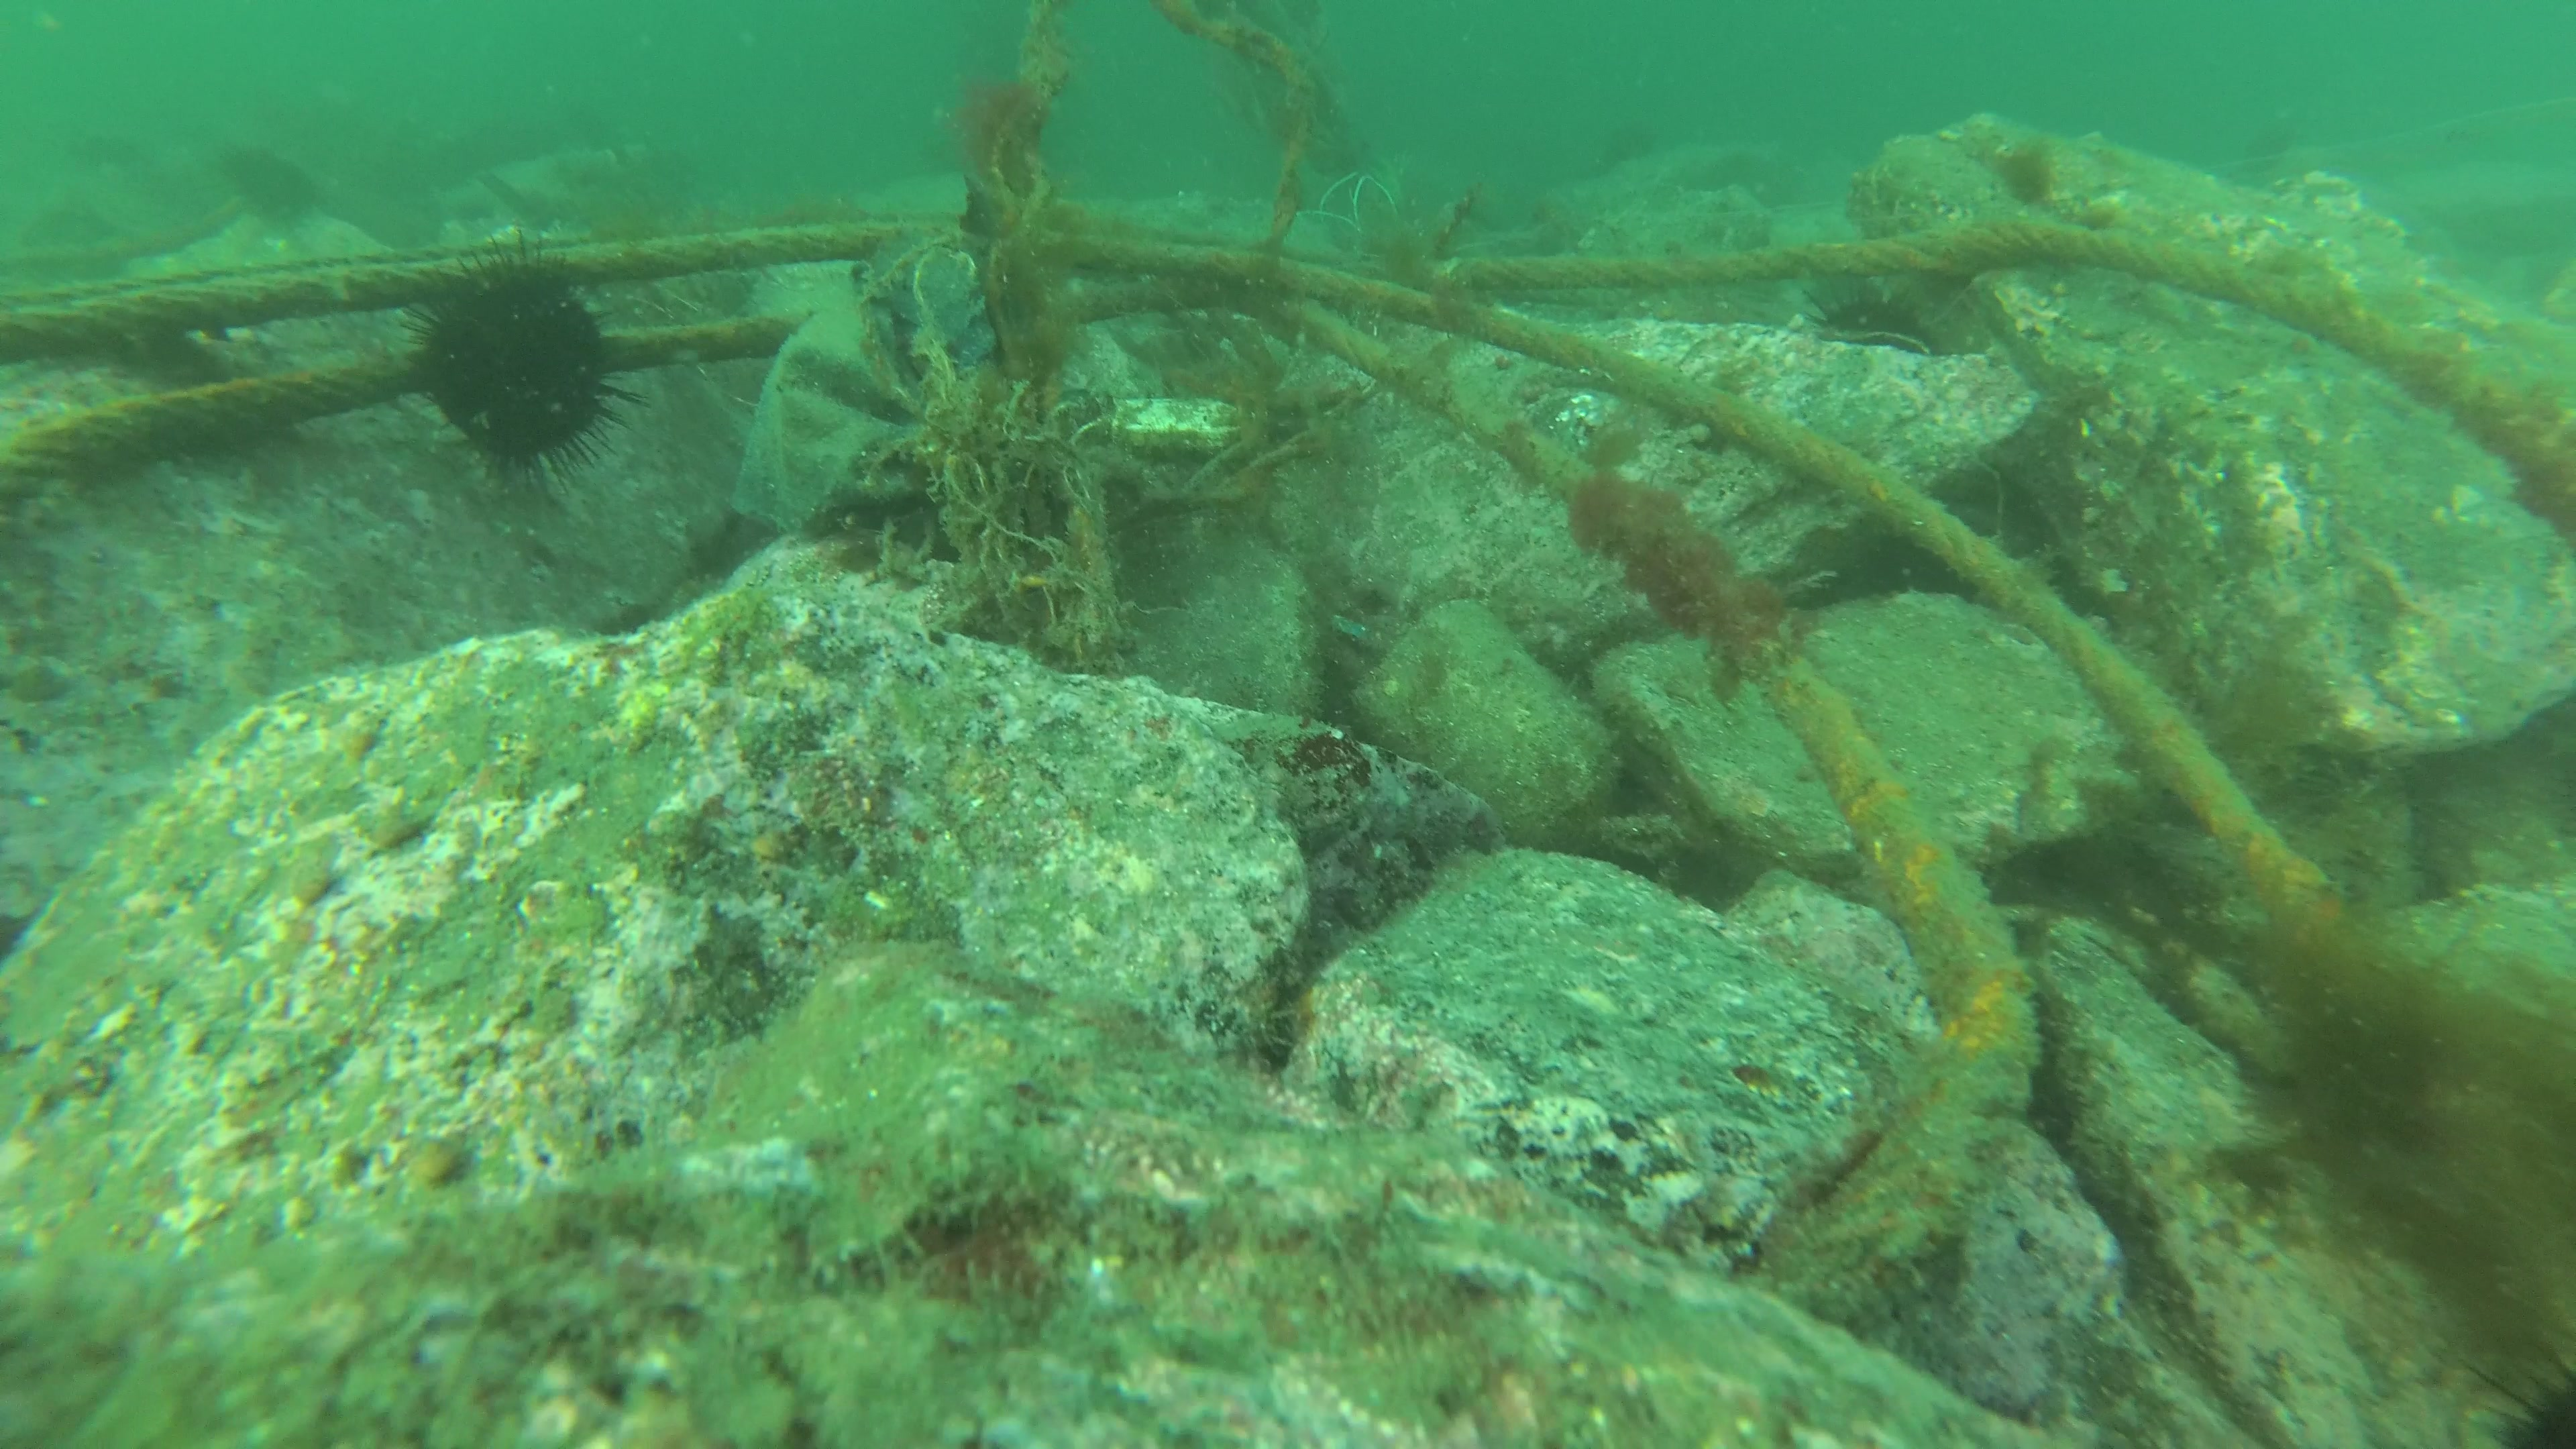echinus: (412, 253, 630, 481)
